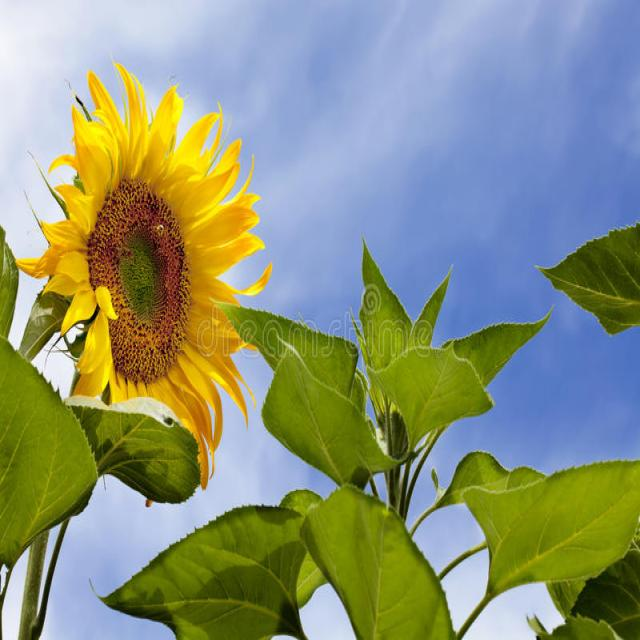sunflower: (46, 64, 278, 486)
